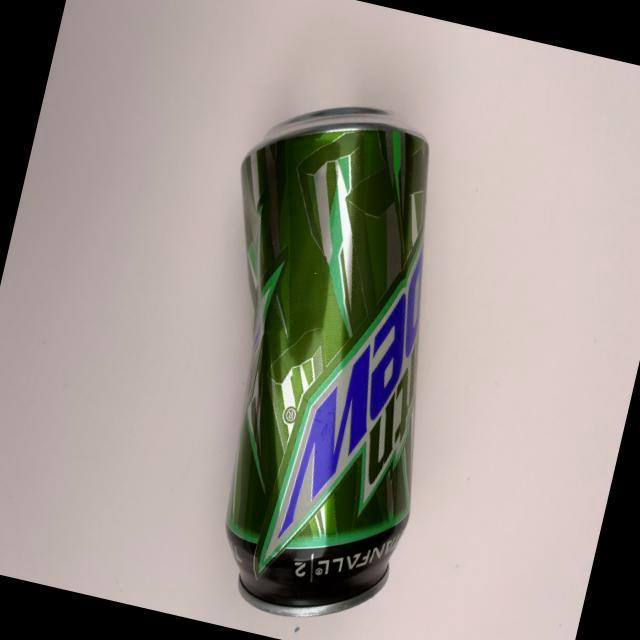metal: (135, 69, 514, 640)
